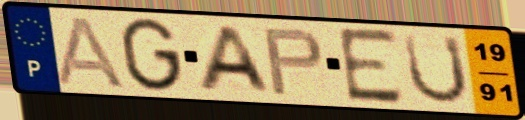A: (194, 24, 276, 96), (54, 14, 130, 91)
E: (334, 26, 406, 107)
G: (119, 16, 185, 94)
P: (260, 26, 326, 98)
U: (401, 31, 472, 106)
